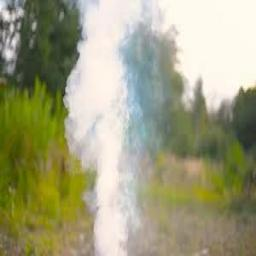Low smoke: (54, 0, 173, 255)
